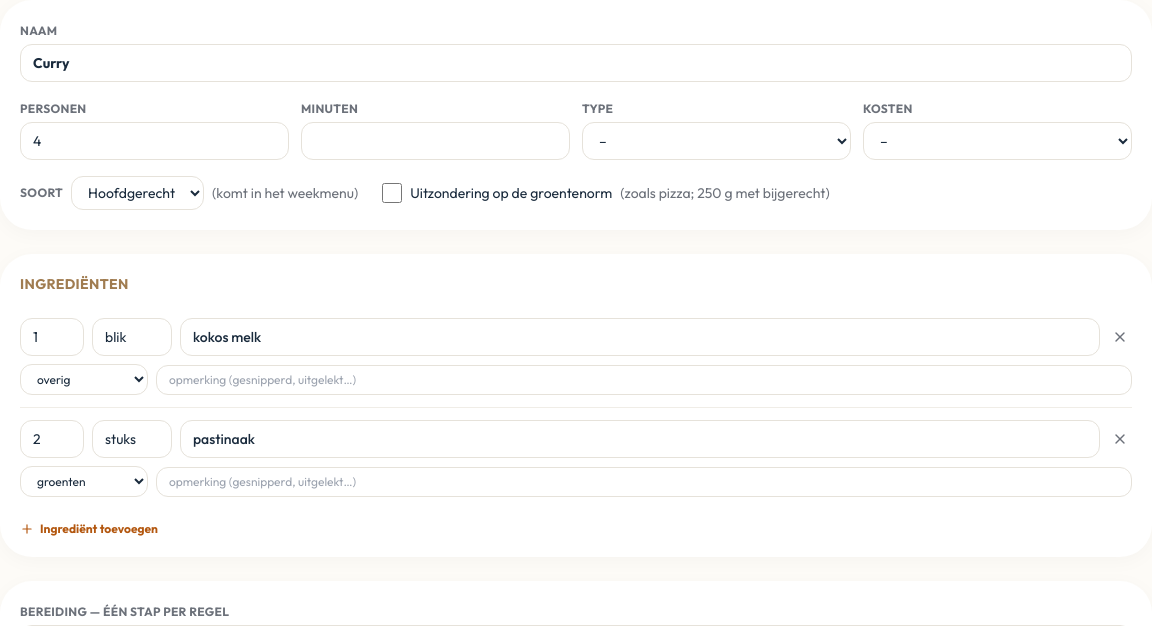
Test case: RecipeEditor ingredient previews › ignores an older preview response that arrives after a newer one
This screenshot has width=1152, height=626.
Replace the text in the 2nd field named "ingrediënt" with "wortel". click: (640, 439)
box: x1=180 y1=420 x2=1100 y2=458
Wait 400 ms
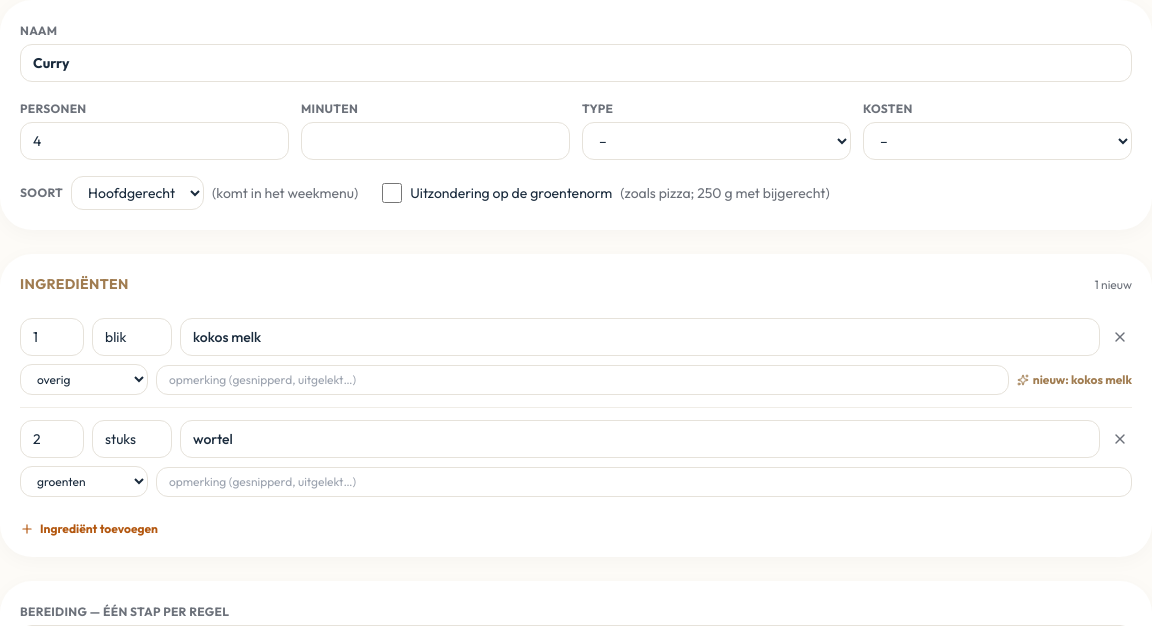
Check: the text "nieuw: kokos melk" is shown, box x1=1017 y1=372 x2=1132 y2=388
